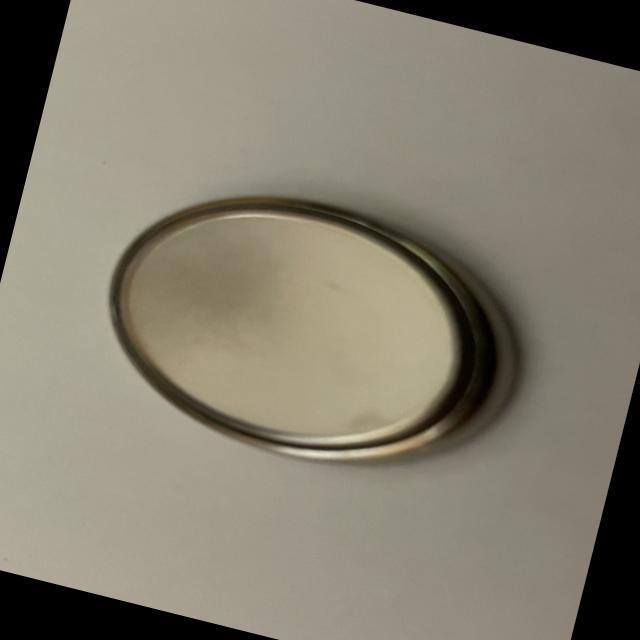COIN: (77, 156, 551, 509)
